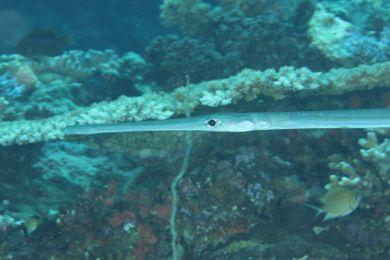Fistularia commersonii: (47, 89, 390, 174)
